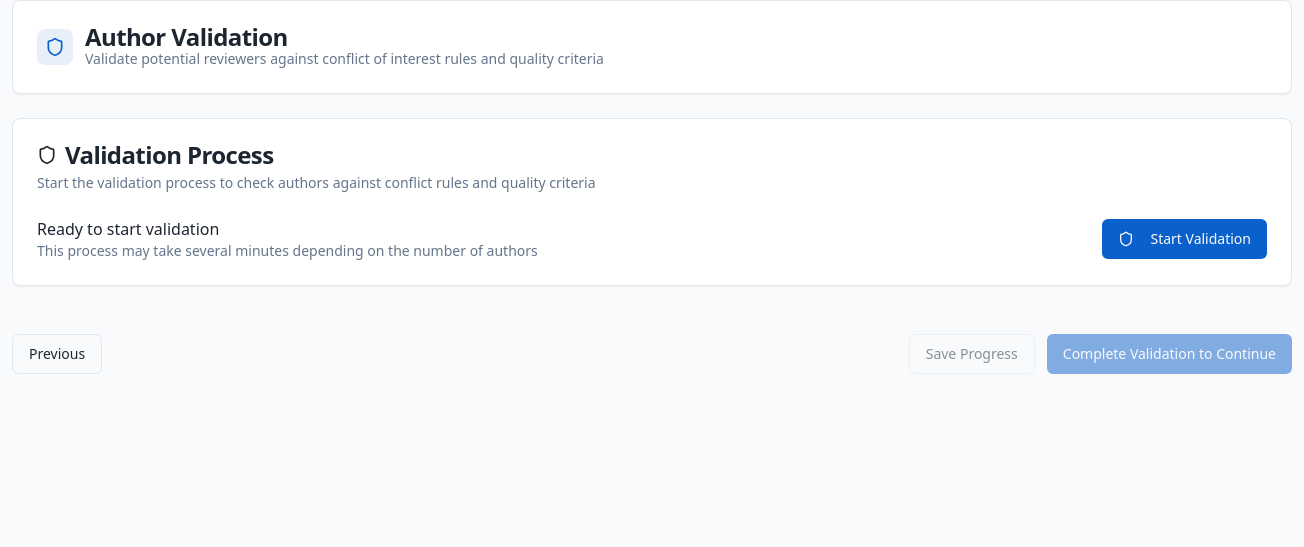
Test: ValidationStep › Error Handling › shows retry button when validation fails
Click the button "Start Validation".
click(1185, 239)  # box [1102,219,1267,259]
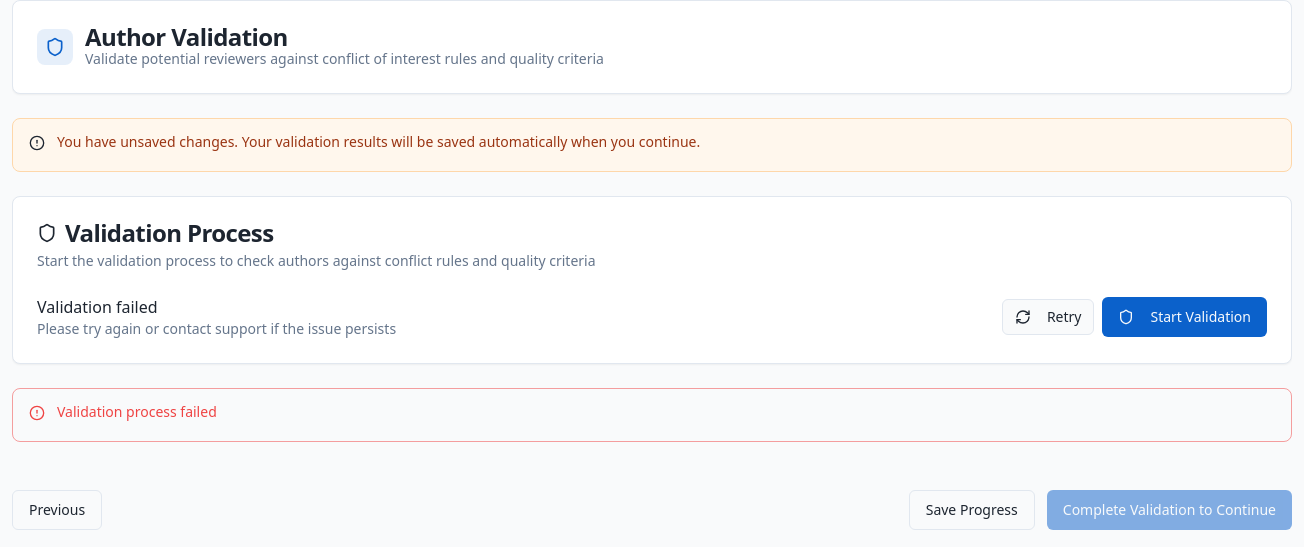
Expected: the button "Retry" is shown, [1002,299,1094,335]
Expected: the text "Validation failed" is shown, [37,296,158,318]
